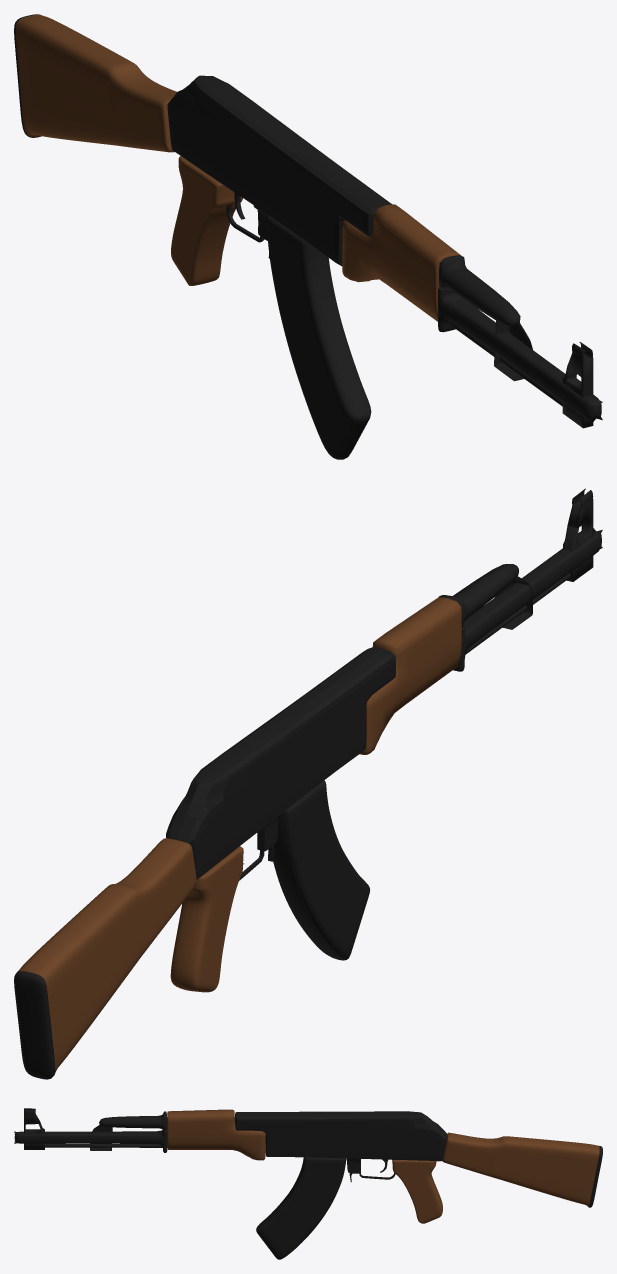
File: DefaultGun.glb
3 views of the same model, one above another, from view 1: azimuth 30°, elevation 25°; view 2: azimuth 150°, elevation 25°; view 3: azimuth 270°, elevation 25° (orthographic). The views are drawn at different scales.
Visible parts, largest first — view 1: Cube.001, Cube, Cube.007, Cube.008, Cube.002, Cube.010, Cube.009, Cube.011, Cylinder; view 2: Cube.001, Cube, Cube.007, Cube.008, Cube.002, Cube.010, Cube.012, Cube.009, Cube.011; view 3: Cube.001, Cube, Cube.007, Cube.008, Cube.010, Cube.002, Cube.009, Cube.011, Cylinder, Cube.012.
Part boxes in pixels (x1=…): Cube.001: x1=167, y1=75, x2=391, y2=265; Cube: x1=15, y1=14, x2=176, y2=152; Cube.007: x1=266, y1=215, x2=371, y2=459; Cube.008: x1=342, y1=204, x2=461, y2=321; Cube.002: x1=171, y1=156, x2=242, y2=285; Cube.010: x1=438, y1=287, x2=602, y2=422; Cube.009: x1=439, y1=255, x2=520, y2=326; Cube.011: x1=562, y1=342, x2=593, y2=428; Cylinder: x1=450, y1=321, x2=562, y2=406; Cube.001: x1=166, y1=647, x2=395, y2=879; Cube: x1=17, y1=838, x2=196, y2=1074; Cube.007: x1=273, y1=780, x2=369, y2=960; Cube.008: x1=359, y1=597, x2=461, y2=754; Cube.002: x1=170, y1=846, x2=243, y2=992; Cube.010: x1=453, y1=528, x2=602, y2=671; Cube.012: x1=14, y1=971, x2=55, y2=1079; Cube.009: x1=439, y1=564, x2=518, y2=627; Cube.011: x1=563, y1=488, x2=593, y2=581; Cube.001: x1=235, y1=1111, x2=447, y2=1161; Cube: x1=442, y1=1132, x2=599, y2=1207; Cube.007: x1=256, y1=1157, x2=346, y2=1259; Cube.008: x1=167, y1=1109, x2=265, y2=1160; Cube.010: x1=14, y1=1125, x2=167, y2=1152; Cube.002: x1=392, y1=1160, x2=442, y2=1223; Cube.009: x1=99, y1=1111, x2=167, y2=1130; Cube.011: x1=24, y1=1108, x2=44, y2=1149; Cylinder: x1=45, y1=1143, x2=162, y2=1147; Cube.012: x1=589, y1=1146, x2=602, y2=1207.
Bounding box in the file's own units: 0.0961 × 0.8103 × 2.89.
